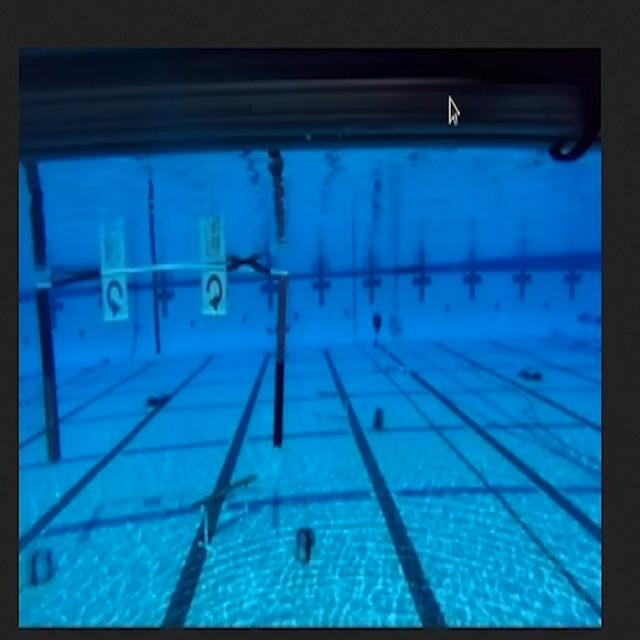Gate: (33, 267, 299, 459)
